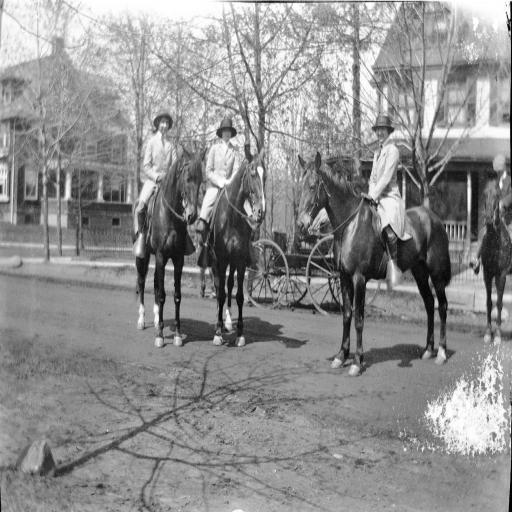horse: (296, 152, 450, 380), (131, 142, 208, 348), (200, 140, 268, 348), (478, 166, 512, 344)
